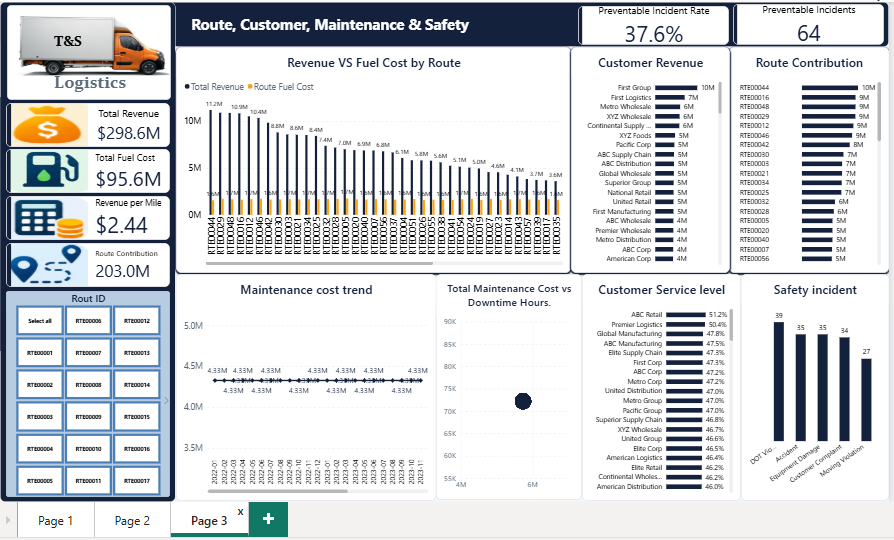

This screenshot's page, from the dashboard's own definition file:
{"tool":"powerbi","page":{"name":"Page 3","canvas":[1920,1080],"ordinal":2},"visuals":[{"type":"shape","box":[0,0,1920.2,97.2],"z":0},{"type":"shape","box":[0,0,379.2,1080.1],"z":1000},{"type":"cardVisual","fields":{"Data":["DateTable.Total Revenue"]},"box":[14,218,354,95],"z":2000},{"type":"cardVisual","fields":{"Data":["DateTable.Total Fuel Cost"]},"box":[14,317,354.2,95],"z":3000},{"type":"cardVisual","fields":{"Data":["DateTable.Revenue per Mile"]},"box":[14,419,354,95],"z":4000},{"type":"cardVisual","fields":{"Data":["routes.Route Contribution"]},"box":[14,520,354.2,95],"z":5000},{"type":"clusteredColumnChart","title":"Revenue VS Fuel Cost by Route","fields":{"Category":["routes.route_id"],"Y":["DateTable.Total Revenue","routes.Route Fuel Cost"]},"box":[380.2,97.2,853.2,488],"z":6000},{"type":"barChart","title":"Route Contribution","fields":{"Category":["routes.route_id"],"Y":["routes.Route Contribution"]},"box":[1574.6,97.2,345.6,488],"z":7000},{"type":"barChart","title":"Customer Revenue","fields":{"Category":["customers.customer_name"],"Y":["DateTable.Total Revenue"]},"box":[1233.4,97.2,343,488],"z":8000},{"type":"barChart","title":"Customer Service level","fields":{"Category":["customers.customer_name"],"Y":["delivery_events.On-Time Delivery Rate"]},"box":[1257.1,587.5,343.4,490],"z":9000},{"type":"lineChart","title":"Maintenance cost trend","fields":{"Category":["DateTable.Year Month"],"Y":["Sum(truck_utilization_metrics.maintenance_cost)"]},"box":[380.2,587.5,561.6,490.3],"z":10000},{"type":"clusteredColumnChart","title":"Safety incident","fields":{"Category":["safety_incidents.incident_type"],"Y":["CountNonNull(safety_incidents.incident_id)"]},"box":[1600.6,587.5,319.7,490],"z":11000},{"type":"textbox","box":[0,0,1425.6,97.2],"z":12000},{"type":"scatterChart","title":"Total Maintenance Cost vs Downtime Hours.","fields":{"Category":["fuel_purchases.truck_id"],"Size":["DateTable.Total Maintenance Cost"],"X":["DateTable.Total Maintenance Cost"],"Y":["DateTable.Total Downtime Hours"]},"box":[941.8,587.5,315.4,488.2],"z":13000},{"type":"cardVisual","fields":{"Data":["safety_incidents.Preventable Incident Rate"]},"box":[1248.5,8.6,326.2,83.8],"z":14000},{"type":"cardVisual","fields":{"Data":["safety_incidents.Preventable Incidents"]},"box":[1583.3,4.3,326.2,88.2],"z":15000},{"type":"image","box":[15.1,6.5,354.2,205.2],"z":16000},{"type":"textbox","box":[13,64.8,267.8,45.4],"z":17000},{"type":"textbox","box":[0,144.7,399.6,67],"z":18000},{"type":"slicer","title":"Rout ID","fields":{"Values":["routes.route_id"]},"box":[13,624.2,354.2,445],"z":18001}]}

Visuals, with their boxes on the page's 1920x1080 design canvas (x1, y1, x2, y2). These are canvas units, not pixel positions in the 894x540 screenshot, which may show the page scaled, cropped or inside an application window:
shape: BBox(0, 0, 1920, 97)
shape: BBox(0, 0, 379, 1080)
cardVisual - DateTable.Total Revenue: BBox(14, 218, 368, 313)
cardVisual - DateTable.Total Fuel Cost: BBox(14, 317, 368, 412)
cardVisual - DateTable.Revenue per Mile: BBox(14, 419, 368, 514)
cardVisual - routes.Route Contribution: BBox(14, 520, 368, 615)
"Revenue VS Fuel Cost by Route" clusteredColumnChart: BBox(380, 97, 1233, 585)
"Route Contribution" barChart: BBox(1575, 97, 1920, 585)
"Customer Revenue" barChart: BBox(1233, 97, 1576, 585)
"Customer Service level" barChart: BBox(1257, 588, 1600, 1078)
"Maintenance cost trend" lineChart: BBox(380, 588, 942, 1078)
"Safety incident" clusteredColumnChart: BBox(1601, 588, 1920, 1078)
textbox: BBox(0, 0, 1426, 97)
"Total Maintenance Cost vs Downtime Hours." scatterChart: BBox(942, 588, 1257, 1076)
cardVisual - safety_incidents.Preventable Incident Rate: BBox(1248, 9, 1575, 92)
cardVisual - safety_incidents.Preventable Incidents: BBox(1583, 4, 1910, 92)
image: BBox(15, 6, 369, 212)
textbox: BBox(13, 65, 281, 110)
textbox: BBox(0, 145, 400, 212)
"Rout ID" slicer: BBox(13, 624, 367, 1069)
